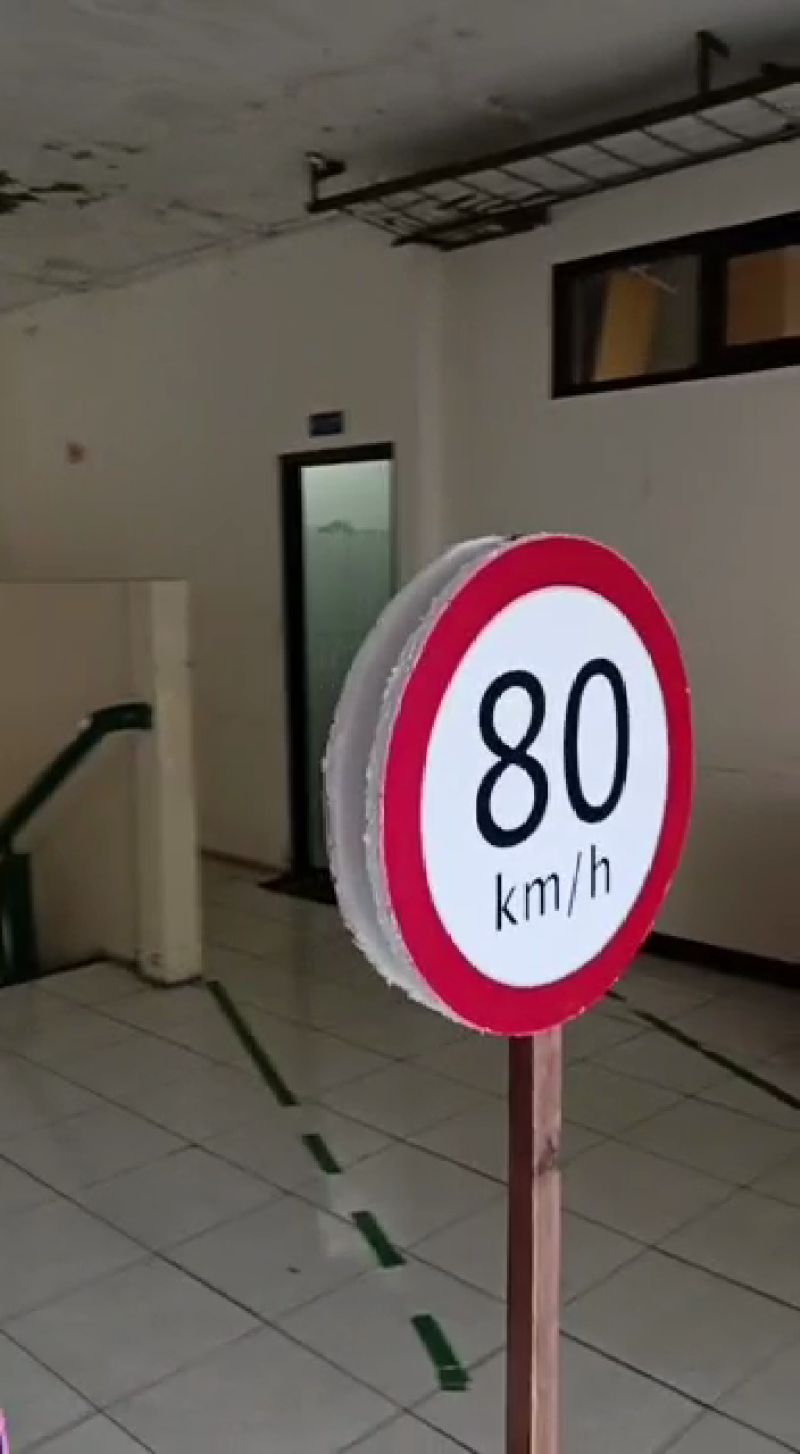batas maksimal 80kmperjam: (335, 524, 705, 1024)
